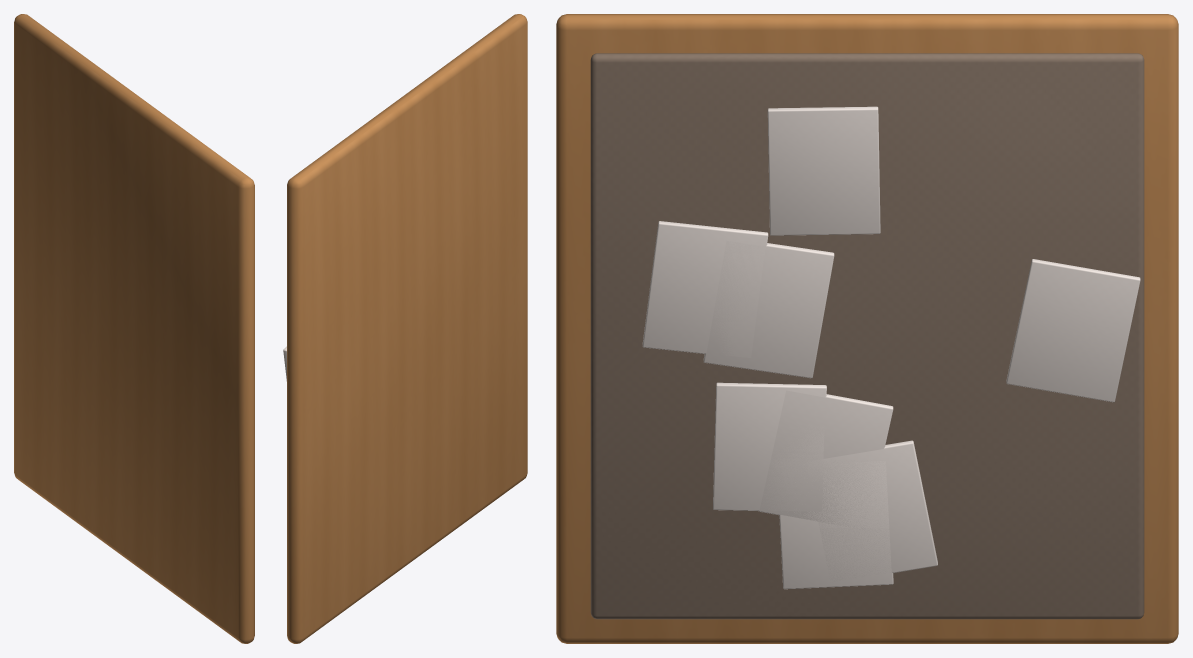
The model's file is ENV_NoticeBoard_001.fbx.
3 renders of one model, left to right at view 1: azimuth 30°, elevation 25°; view 2: azimuth 150°, elevation 25°; view 3: azimuth 270°, elevation 25°, orthographic. The views are drawn at different scales.
Parts seen in each view (by area): view 1: IMG2_ENV_Notice_Board; view 2: IMG2_ENV_Notice_Board; view 3: IMG2_ENV_Notice_Board.
Boxes of the visible parts, x1,y1,x2,y2 form: IMG2_ENV_Notice_Board: [14, 14, 254, 643]; IMG2_ENV_Notice_Board: [283, 14, 527, 643]; IMG2_ENV_Notice_Board: [556, 14, 1178, 643].
Size of the model in its own units: 5.91 by 85 by 76.5.
